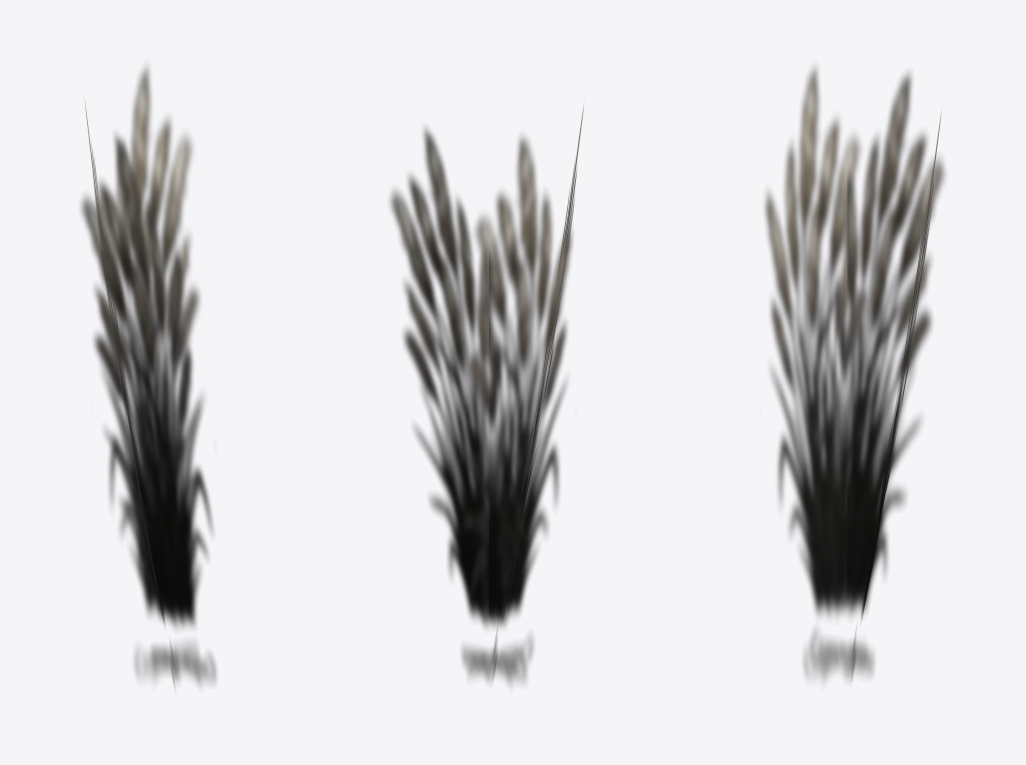
File: co-lau.glb
3 views of the same model, side by side, from view 1: azimuth 30°, elevation 25°; view 2: azimuth 150°, elevation 25°; view 3: azimuth 270°, elevation 25° (orthographic).
Parts seen in each view (by area): view 1: p0; view 2: p0; view 3: p0.
Boxes of the visible parts, x1,y1,x2,y2 form: p0: [80, 64, 216, 688]; p0: [389, 106, 583, 685]; p0: [764, 64, 945, 684].
Size of the model in its own units: 0.5871 by 1.4 by 0.6772.
1 material, 1 textured.
